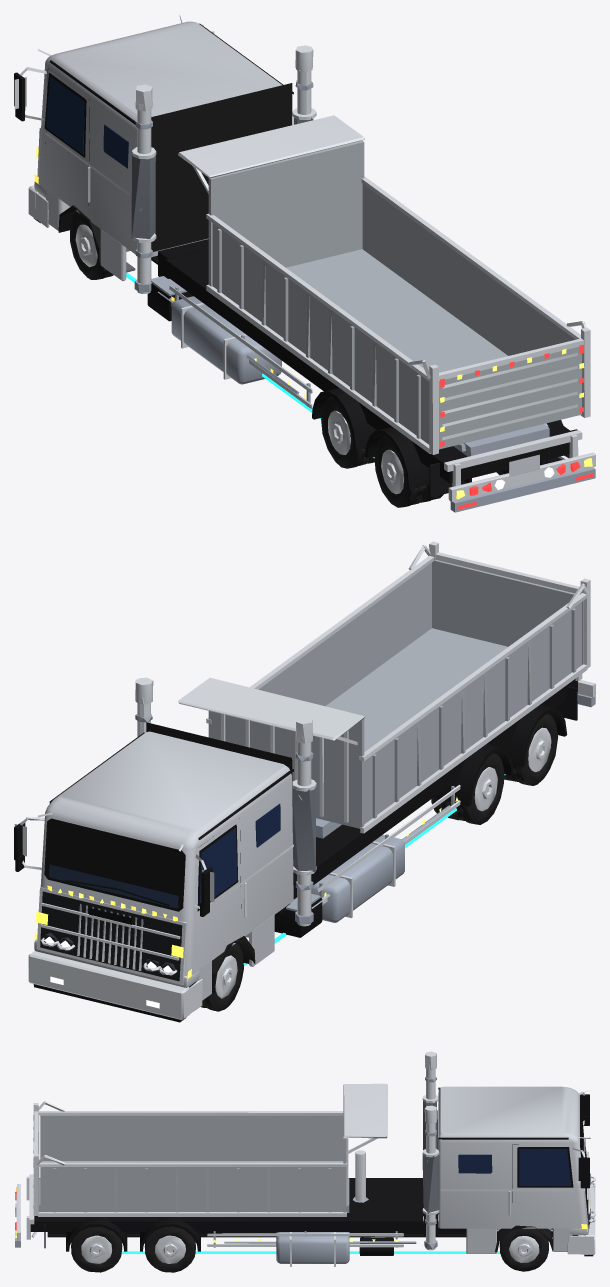
Rendered from dekotora_truck_dump_lod1.glb.
3 views of the same model, one above another, from view 1: azimuth 30°, elevation 25°; view 2: azimuth 150°, elevation 25°; view 3: azimuth 270°, elevation 25° (orthographic). The views are drawn at different scales.
Visible parts, largest first — view 1: lod1_dump_bed, lod1_chrome, lod1_paint_white_panel, lod1_plastic_black, lod1_plastic_trim, lod1_steel, lod1_rubber_tire, lod1_glass, lod1_mesh_perf, lod1_lamp_red; view 2: lod1_dump_bed, lod1_chrome, lod1_paint_white_panel, lod1_plastic_black, lod1_vent_slots, lod1_steel, lod1_rubber_tire, lod1_glass, lod1_plastic_trim, lod1_mesh_perf, lod1_glass_wind; view 3: lod1_dump_bed, lod1_paint_white_panel, lod1_chrome, lod1_plastic_black, lod1_rubber_tire, lod1_steel, lod1_glass, lod1_mesh_perf, lod1_lamp_cyan, lod1_plastic_trim.
Part boxes in pixels (bbox=[...]): lod1_dump_bed: bbox=[208, 140, 581, 449]; lod1_chrome: bbox=[14, 15, 595, 501]; lod1_paint_white_panel: bbox=[34, 21, 282, 281]; lod1_plastic_black: bbox=[14, 23, 570, 489]; lod1_plastic_trim: bbox=[58, 83, 292, 262]; lod1_steel: bbox=[134, 80, 595, 512]; lod1_rubber_tire: bbox=[70, 212, 546, 507]; lod1_glass: bbox=[46, 76, 128, 168]; lod1_mesh_perf: bbox=[131, 117, 313, 239]; lod1_lamp_red: bbox=[440, 344, 593, 509]; lod1_dump_bed: bbox=[208, 560, 583, 828]; lod1_chrome: bbox=[14, 541, 595, 1019]; lod1_paint_white_panel: bbox=[34, 731, 293, 1000]; lod1_plastic_black: bbox=[14, 679, 577, 1022]; lod1_vent_slots: bbox=[40, 891, 182, 981]; lod1_steel: bbox=[135, 694, 595, 924]; lod1_rubber_tire: bbox=[201, 714, 557, 1011]; lod1_glass: bbox=[200, 803, 280, 902]; lod1_plastic_trim: bbox=[146, 722, 292, 993]; lod1_mesh_perf: bbox=[292, 785, 315, 871]; lod1_glass_wind: bbox=[49, 864, 178, 908]; lod1_dump_bed: bbox=[38, 1115, 346, 1212]; lod1_paint_white_panel: bbox=[438, 1086, 588, 1253]; lod1_chrome: bbox=[16, 1051, 595, 1266]; lod1_plastic_black: bbox=[30, 1087, 593, 1256]; lod1_rubber_tire: bbox=[71, 1226, 548, 1272]; lod1_steel: bbox=[15, 1077, 552, 1263]; lod1_glass: bbox=[458, 1149, 570, 1185]; lod1_mesh_perf: bbox=[422, 1101, 439, 1213]; lod1_lamp_cyan: bbox=[121, 1251, 548, 1253]; lod1_plastic_trim: bbox=[437, 1111, 552, 1252].
Size of the model in its own units: 3.24 by 3.75 by 11.84.
20 materials, 7 textured.
